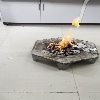fire: (47, 17, 80, 52)
